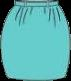Hemline: (7, 76, 66, 80)
Waistline: (14, 4, 58, 6), (15, 0, 57, 2)
